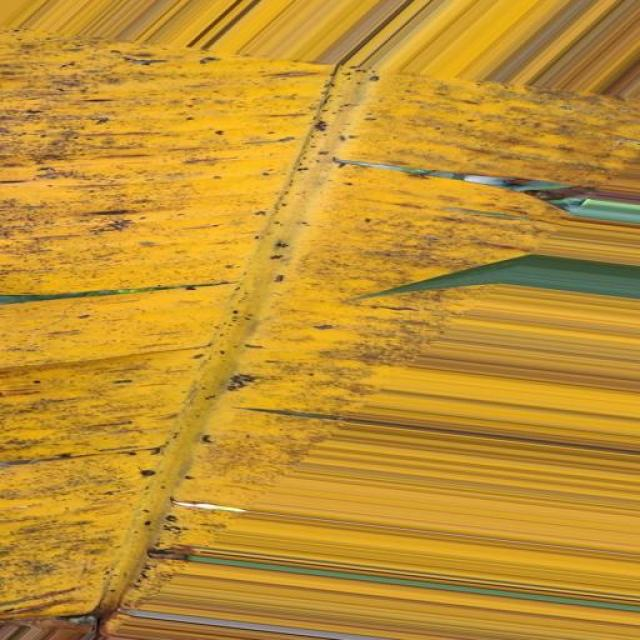Cordana: (0, 28, 637, 640)
